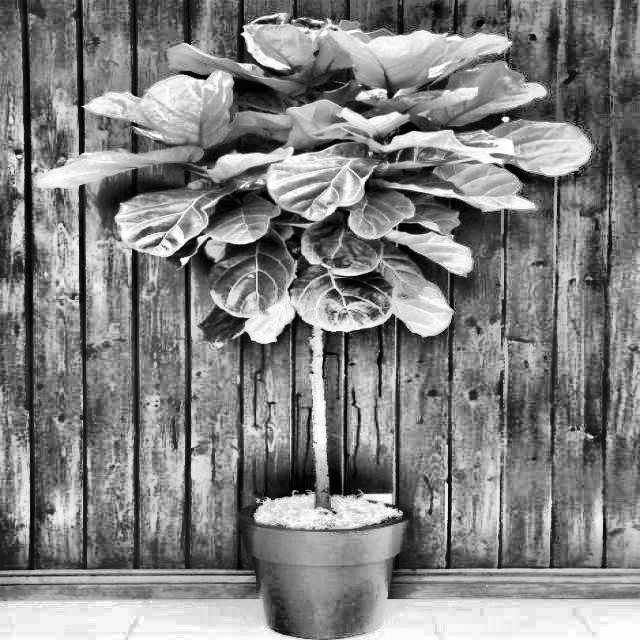plants: (55, 11, 588, 634)
